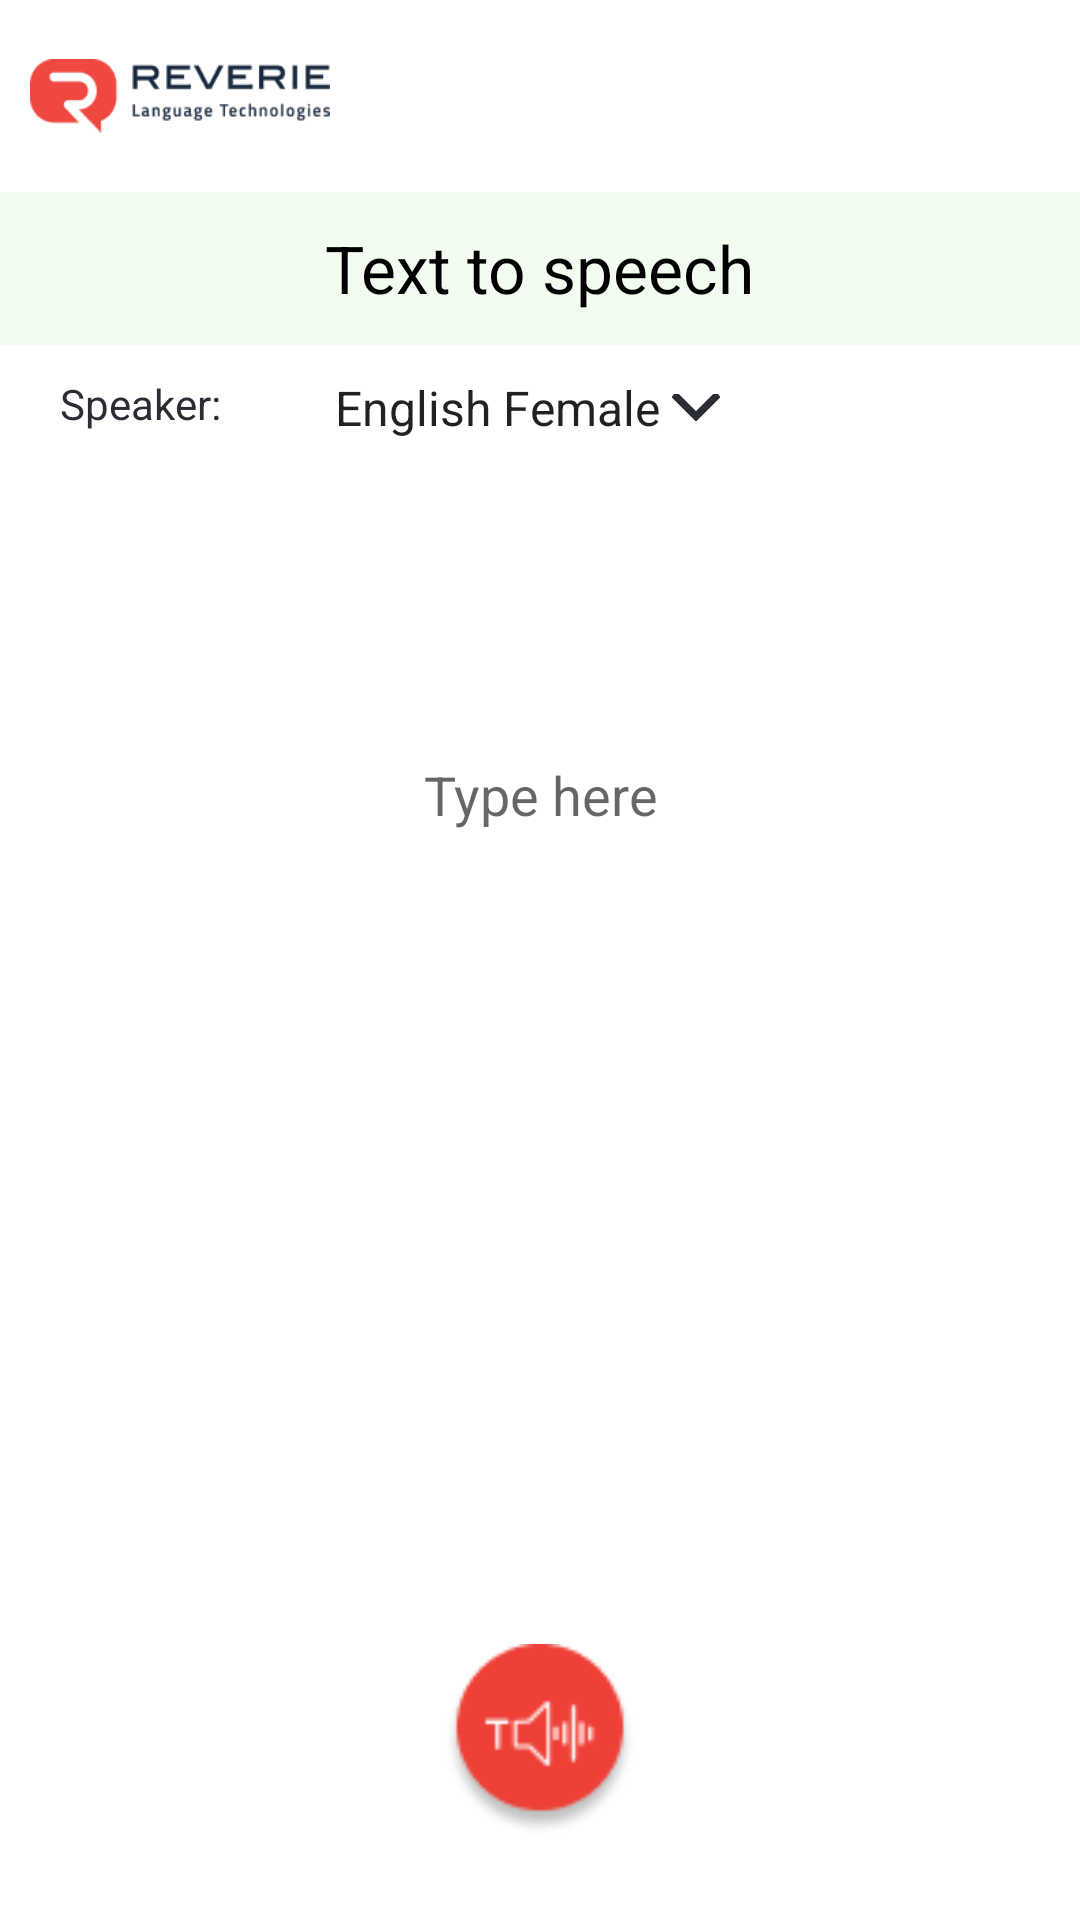

Where to tap for icons on this 1080px×1920px app screen, as (x=x, y=y):
tts convert: (x=540, y=1734)
